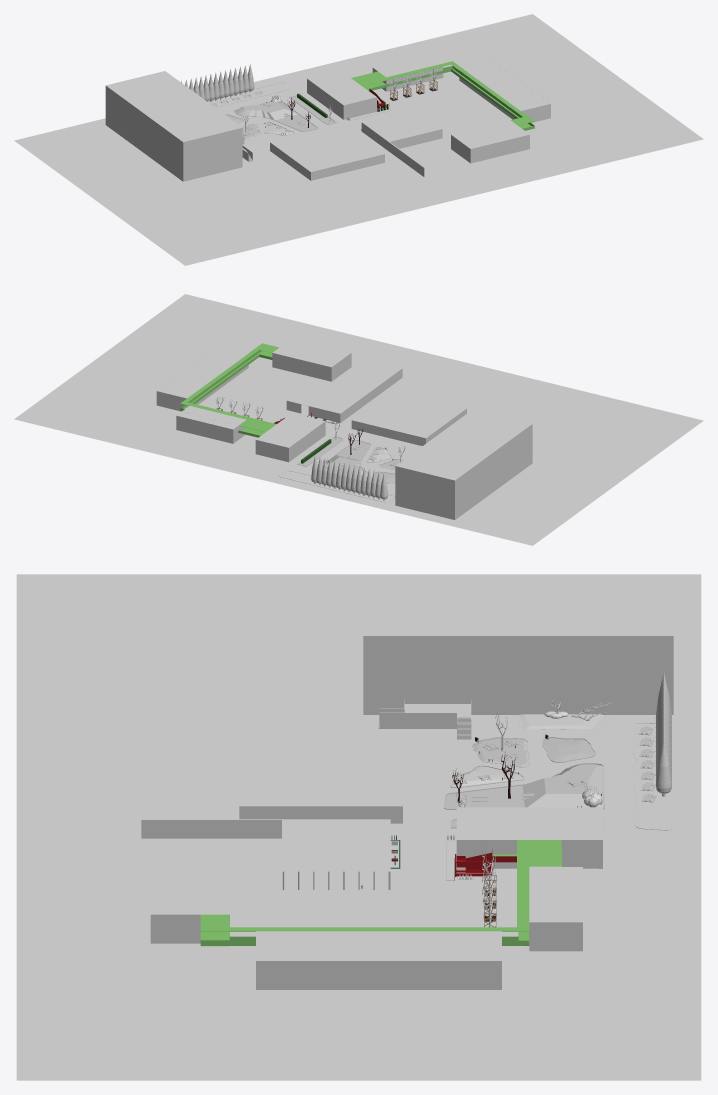
The model's file is map.fbx.
3 renders of one model, top to bottom at view 1: azimuth 30°, elevation 25°; view 2: azimuth 150°, elevation 25°; view 3: azimuth 270°, elevation 25°, orthographic. The views are drawn at different scales.
Parts seen in each view (by area): view 1: sol, EPITA, Travaux, baby foot sup.001, batiment sup bio 2, batiment supbiotech 1, batiment sup bio 4, batiment supbio.001, Sphere, batiment 3 sup bio, terre EPITA (4), terre EPITA (5); view 2: sol, EPITA, Travaux, baby foot sup.001, batiment sup bio 2, batiment supbiotech 1, batiment sup bio 4, batiment supbio.001, Sphere, batiment 3 sup bio, terre EPITA (4), terre EPITA (5); view 3: sol, EPITA, batiment sup bio 2, Travaux, baby foot sup.001, batiment sup bio 4, batiment supbiotech 1, batiment supbio.001, batiment 3 sup bio, terre EPITA (4), terre EPITA (5), Cube.001 (+6 smaller).
Part boxes in pixels (box(x1,y1,x2,y2)): sol: box(14, 14, 703, 265); EPITA: box(105, 71, 242, 181); Travaux: box(270, 124, 384, 180); baby foot sup.001: box(361, 109, 442, 176); batiment sup bio 2: box(459, 59, 550, 122); batiment supbiotech 1: box(451, 120, 529, 163); batiment sup bio 4: box(307, 70, 376, 119); batiment supbio.001: box(351, 61, 534, 130); Sphere: box(181, 64, 254, 101); batiment 3 sup bio: box(372, 53, 443, 91); terre EPITA (4): box(234, 101, 317, 131); terre EPITA (5): box(207, 82, 288, 107); sol: box(14, 294, 703, 545); EPITA: box(395, 409, 532, 519); Travaux: box(351, 390, 466, 445); baby foot sup.001: box(286, 368, 402, 422); batiment sup bio 2: box(156, 346, 248, 411); batiment supbiotech 1: box(272, 338, 351, 381); batiment sup bio 4: box(255, 413, 325, 462); batiment supbio.001: box(180, 343, 278, 437); Sphere: box(311, 456, 387, 499); batiment 3 sup bio: box(176, 406, 245, 443); terre EPITA (4): box(327, 440, 370, 476); terre EPITA (5): box(279, 471, 394, 502); sol: box(16, 574, 701, 1080); EPITA: box(363, 577, 673, 714); batiment sup bio 2: box(256, 931, 501, 989); Travaux: box(239, 734, 402, 823); baby foot sup.001: box(141, 819, 390, 889); batiment sup bio 4: box(456, 807, 602, 868); batiment supbiotech 1: box(150, 856, 229, 943); batiment supbio.001: box(200, 840, 561, 946); batiment 3 sup bio: box(529, 866, 582, 951); terre EPITA (4): box(445, 764, 603, 808); terre EPITA (5): box(635, 723, 669, 829); Cube.001: box(379, 699, 471, 739).
Size of the model in its own units: 18849 by 1503 by 10777.
